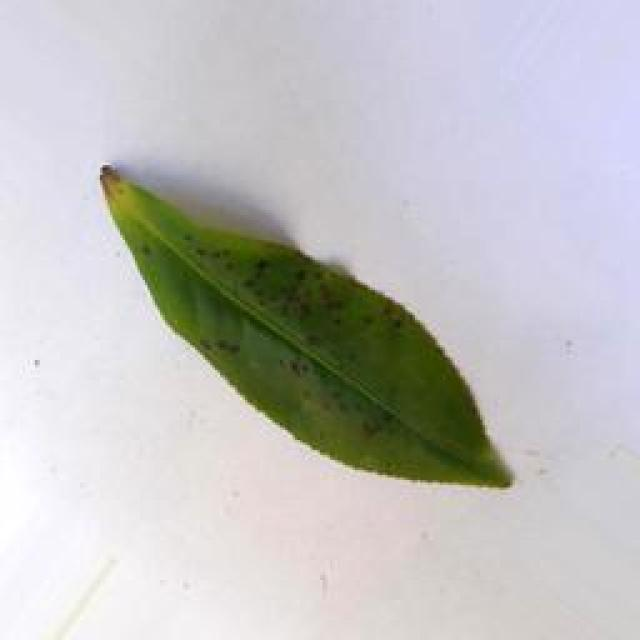Helopeltis: (95, 153, 525, 501)
